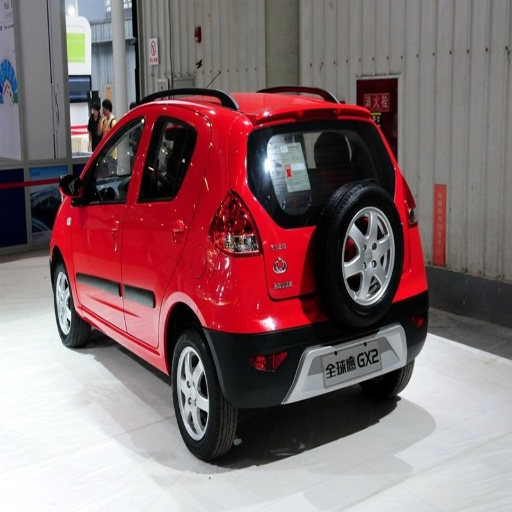back_bumper: (210, 298, 408, 409)
back_glass: (266, 129, 361, 166)
back_left_door: (143, 109, 190, 185)
back_left_light: (211, 205, 262, 259)
trunk: (248, 190, 320, 317)
